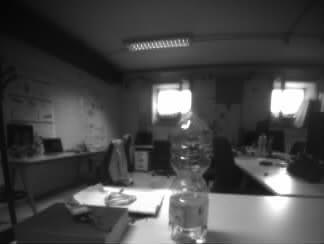Bottle: (170, 110, 210, 242)
